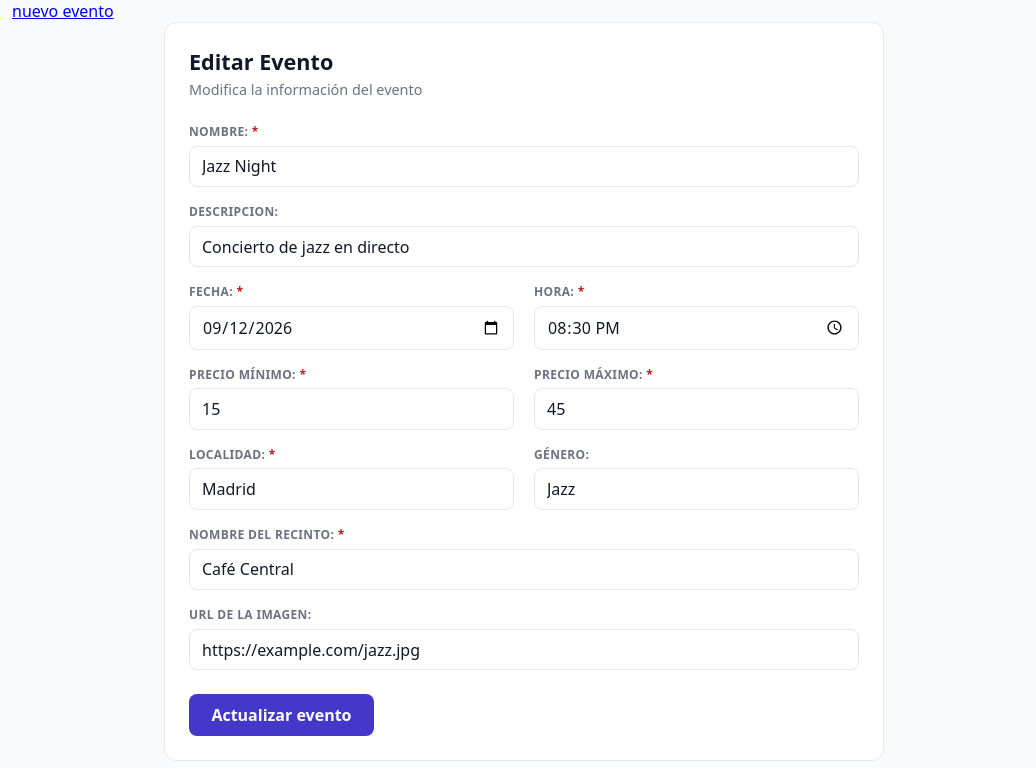
Test: EventForm › edit mode (route with :id) › shows the update error message when the service rejects
Check: the field labelled "Nombre:" is shown, box [189,146,859,187]
Click the button "Actualizar evento".
click(281, 715)  # box [189,694,374,736]
(page scrolled)
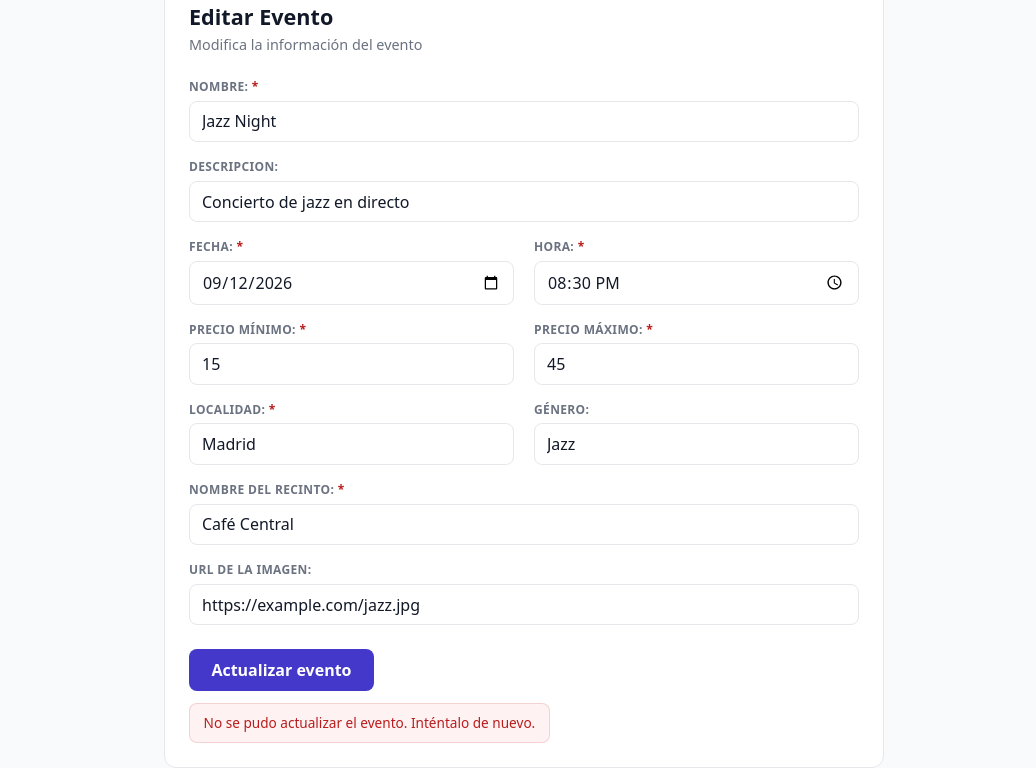
Check: the message reads "No se pudo actualizar el evento. Inténtalo de nuevo.", box [189,702,550,743]
